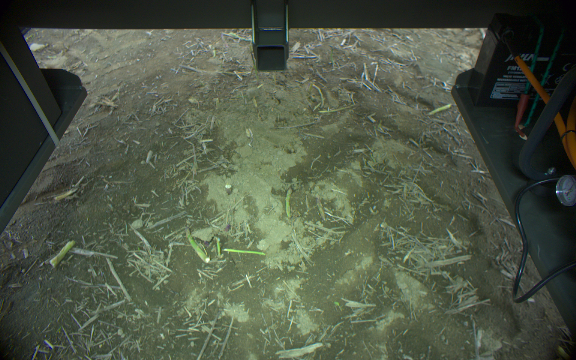aspa: (184, 227, 210, 263), (50, 238, 76, 269), (220, 244, 266, 257), (429, 103, 452, 118), (284, 186, 293, 219), (316, 196, 326, 220), (214, 234, 222, 260)
